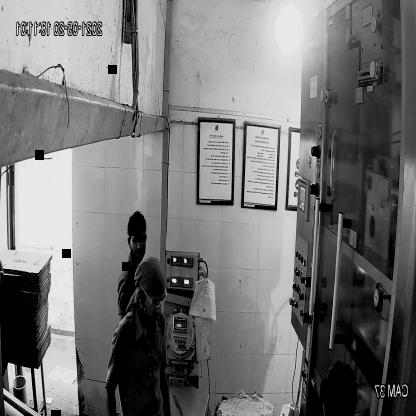goggles: (138, 282, 170, 310)
no_goggles: (127, 230, 148, 248)
